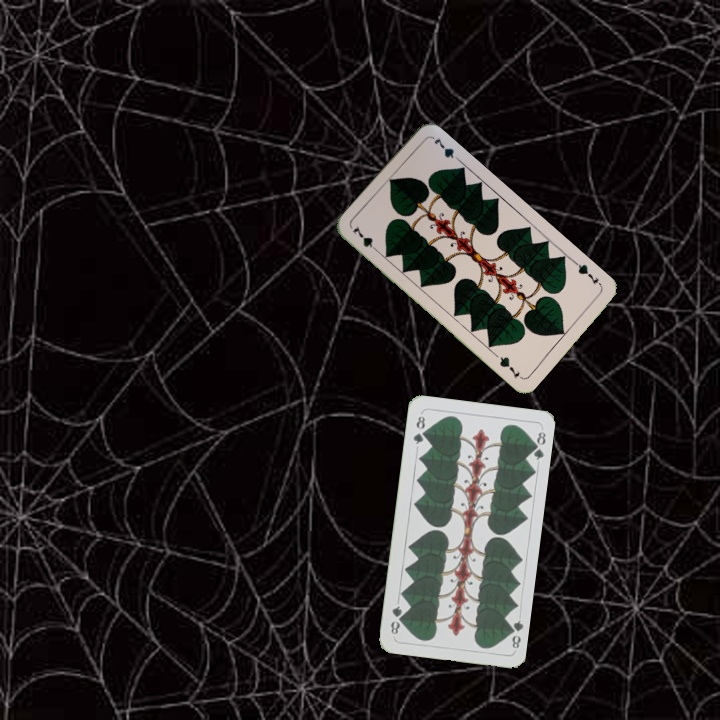G7: (349, 223, 382, 256), (571, 258, 604, 289)
G8: (504, 616, 525, 651), (409, 412, 428, 447)
